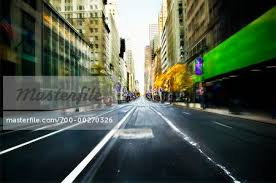strada: (2, 129, 276, 181)
